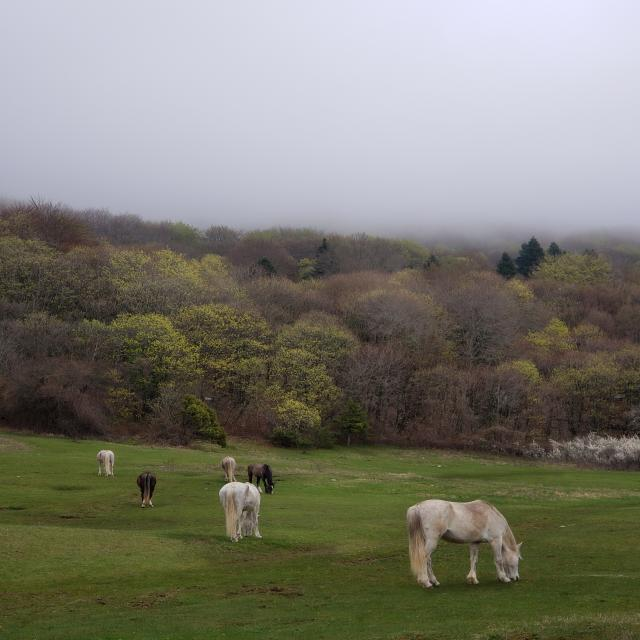horse: (388, 478, 532, 592), (214, 480, 282, 551), (82, 429, 125, 490), (248, 450, 296, 502), (130, 467, 170, 521), (210, 446, 243, 491)
tree: (294, 320, 388, 461), (529, 336, 629, 468), (413, 333, 502, 467), (214, 324, 292, 454), (71, 316, 158, 432), (153, 324, 224, 454)
